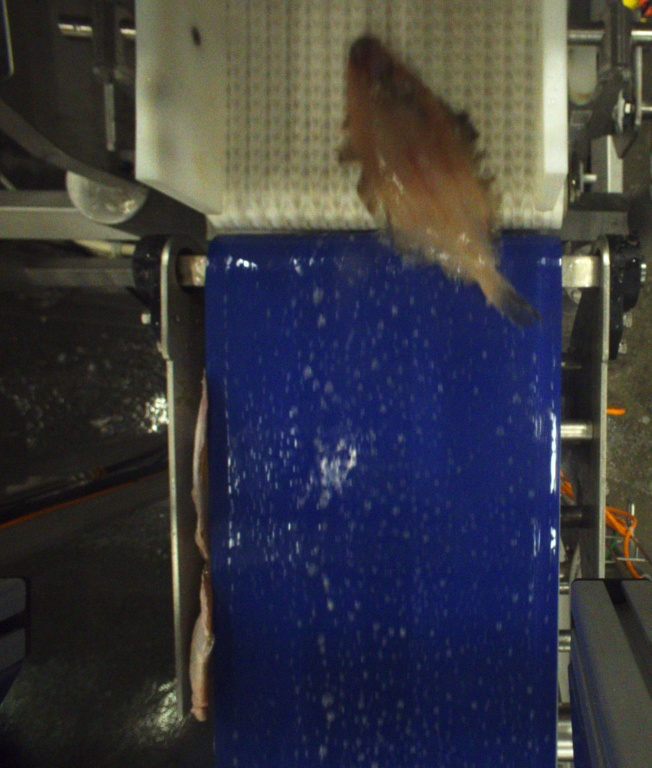WIT: (340, 33, 529, 328)
